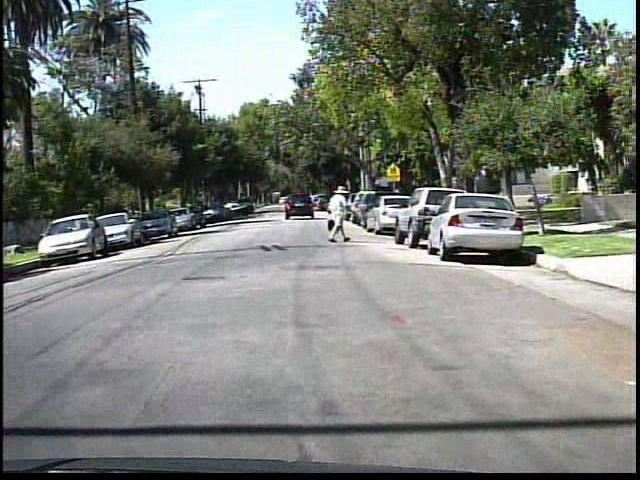person: (323, 184, 355, 245)
